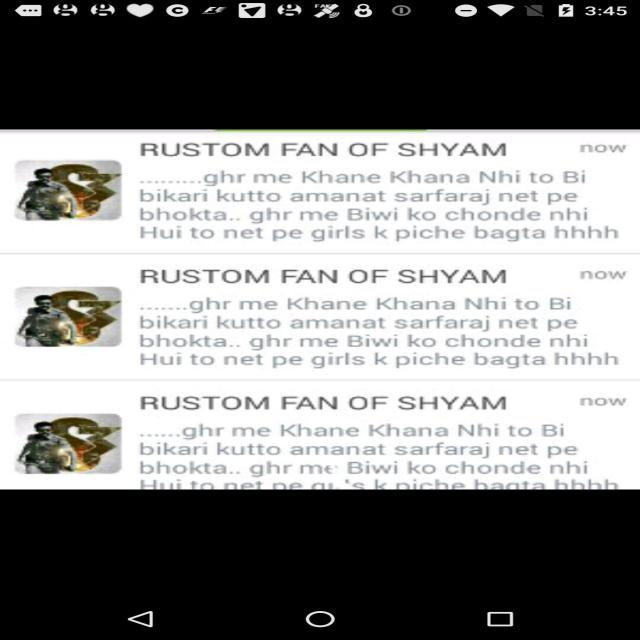image: (16, 145, 125, 464)
text: (105, 119, 618, 491)
